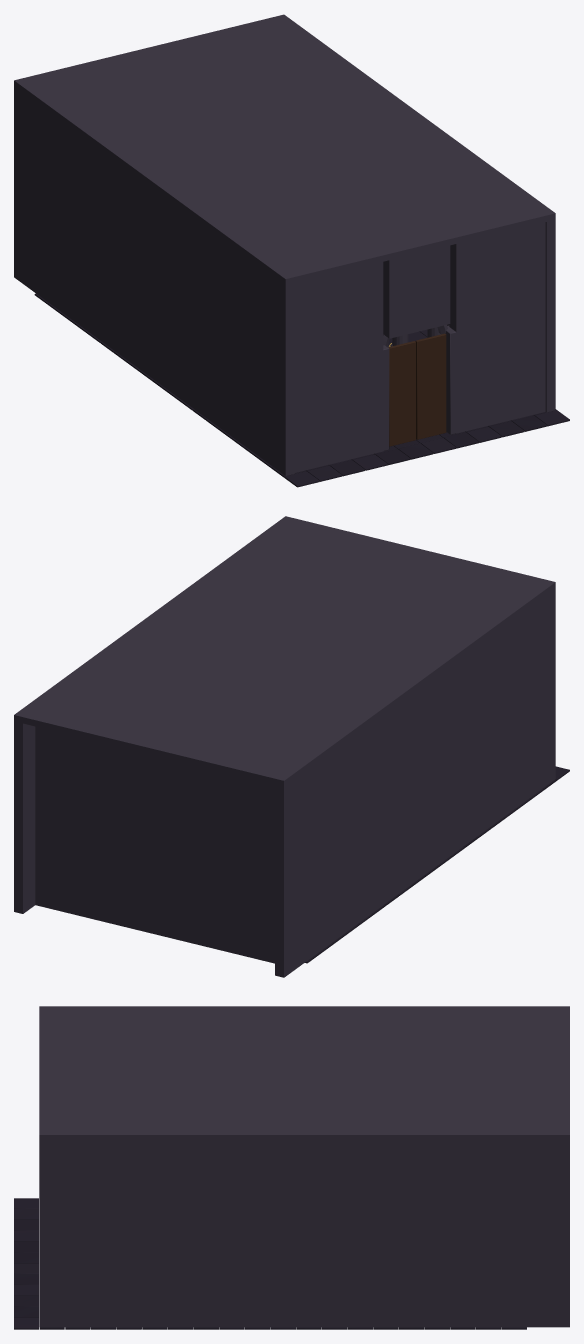
File: intro.glb
3 views of the same model, one above another, from view 1: azimuth 30°, elevation 25°; view 2: azimuth 150°, elevation 25°; view 3: azimuth 270°, elevation 25° (orthographic). The views are drawn at different scales.
Parts seen in each view (by area): view 1: hall; view 2: hall; view 3: hall.
Boxes of the visible parts, x1,y1,x2,y2 form: hall: [14, 14, 569, 487]; hall: [14, 516, 569, 977]; hall: [14, 1006, 569, 1329].
Bounding box in the file's own units: 17.97 × 13.26 × 32.49.
